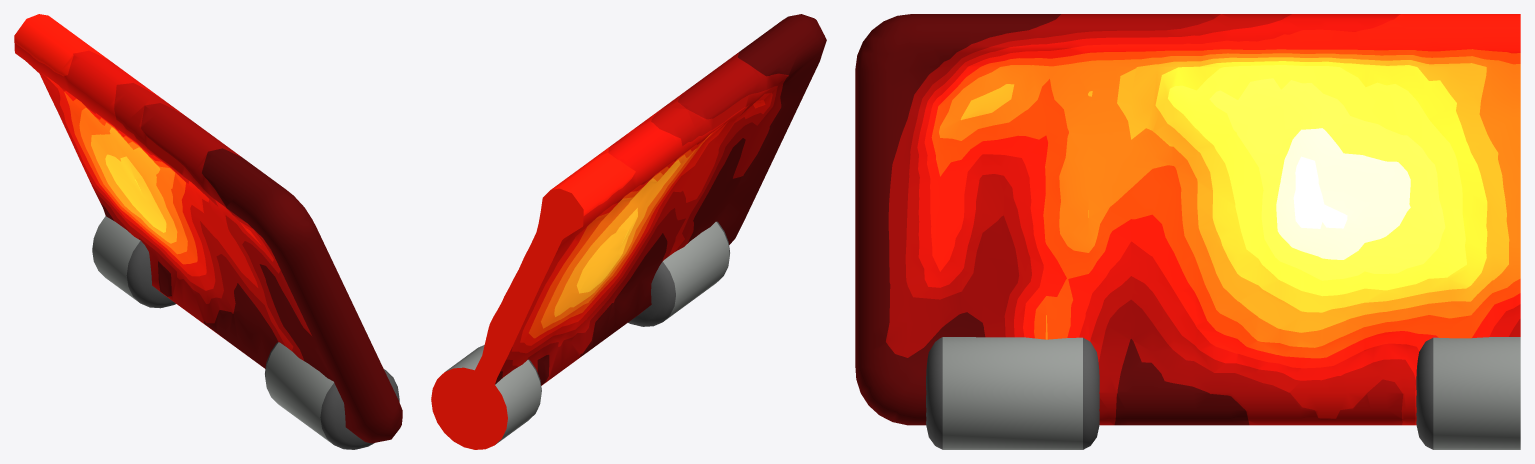
Rendered from fire_flap_43.glb.
The picture shows the model from 3 angles, left to right: view 1: azimuth 30°, elevation 25°; view 2: azimuth 150°, elevation 25°; view 3: azimuth 270°, elevation 25°; orthographic projection. The views are drawn at different scales.
Visible parts, largest first — view 1: flap.001, knuckle2.001, knuckle1.001; view 2: flap.001, knuckle1.001, knuckle2.001; view 3: flap.001, knuckle2.001, knuckle1.001.
Boxes of the visible parts, bbox=[...] form: flap.001: bbox=[14, 14, 402, 443]; knuckle2.001: bbox=[265, 342, 399, 449]; knuckle1.001: bbox=[92, 216, 175, 308]; flap.001: bbox=[447, 14, 826, 431]; knuckle1.001: bbox=[431, 345, 541, 449]; knuckle2.001: bbox=[628, 221, 729, 326]; flap.001: bbox=[855, 14, 1520, 425]; knuckle2.001: bbox=[926, 337, 1099, 449]; knuckle1.001: bbox=[1416, 337, 1520, 449].
Bounding box in the file's own units: 6.55 × 11.57 × 19.
